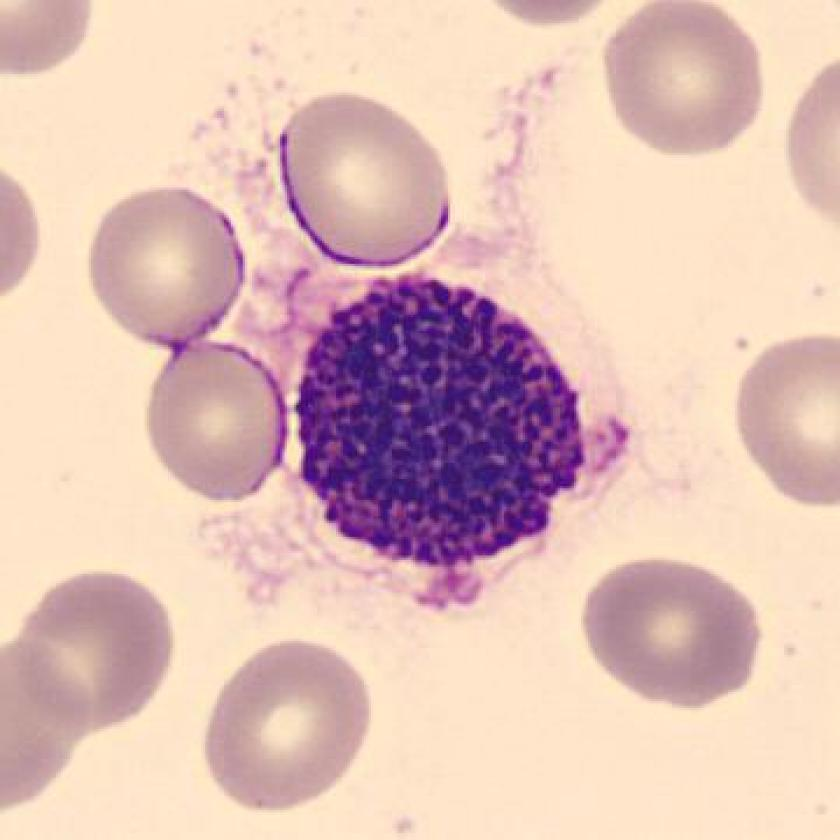basophil: (291, 270, 606, 578)
